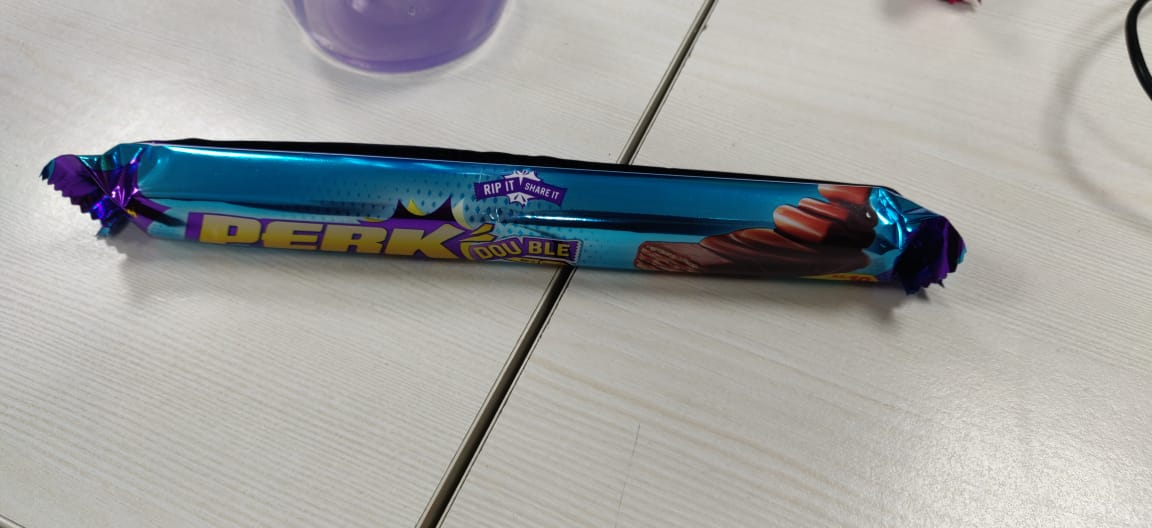perk: (30, 129, 992, 306)
